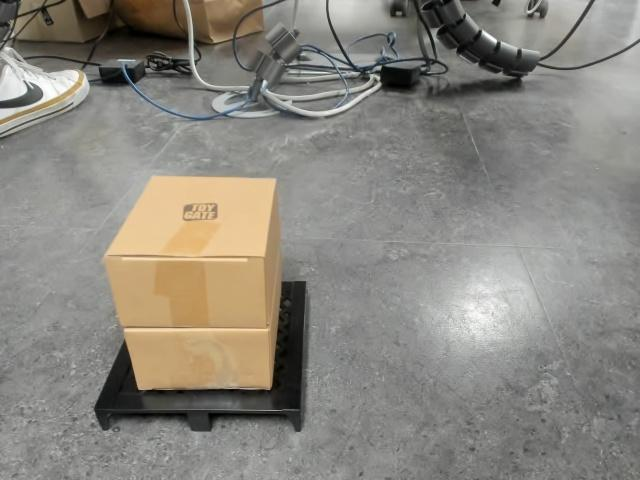box: (94, 175, 312, 433)
